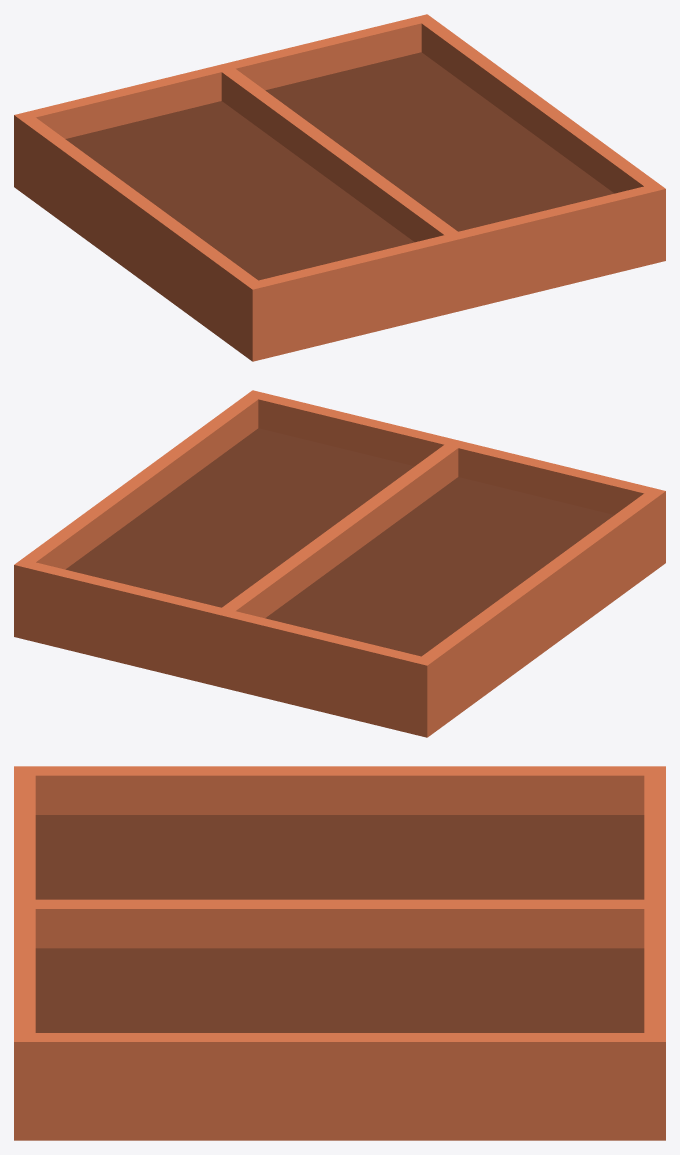
The model's file is CropPlot_Medium.fbx.
The picture shows the model from 3 angles, top to bottom: view 1: azimuth 30°, elevation 25°; view 2: azimuth 150°, elevation 25°; view 3: azimuth 270°, elevation 25°; orthographic projection. The views are drawn at different scales.
Parts seen in each view (by area): view 1: CropPlot_Medium_Geo; view 2: CropPlot_Medium_Geo; view 3: CropPlot_Medium_Geo.
Boxes of the visible parts, left/top/right/bottom form: CropPlot_Medium_Geo: left=14, top=14, right=665, bottom=361; CropPlot_Medium_Geo: left=14, top=390, right=665, bottom=737; CropPlot_Medium_Geo: left=14, top=766, right=665, bottom=1140.
Size of the model in its own units: 1.5 by 0.25 by 1.5.
